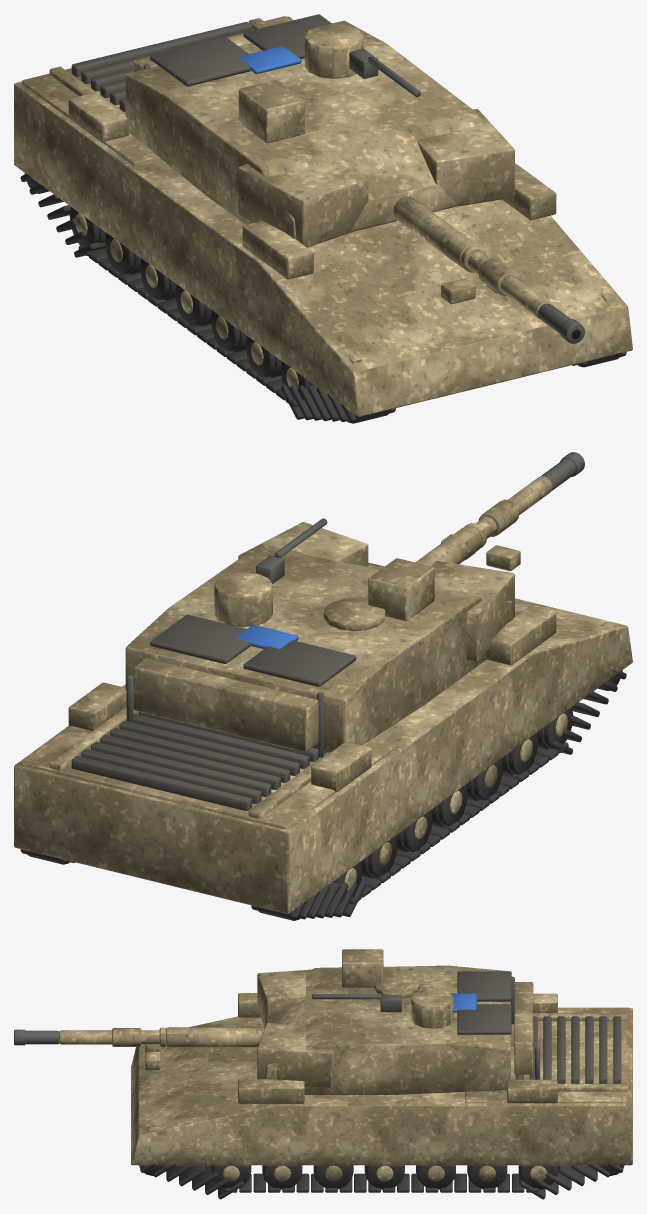
The model's file is mbt_e4_us_m1_abrams_LOD0.glb.
The picture shows the model from 3 angles, top to bottom: view 1: azimuth 30°, elevation 25°; view 2: azimuth 150°, elevation 25°; view 3: azimuth 270°, elevation 25°; orthographic projection. The views are drawn at different scales.
Parts seen in each view (by area): view 1: mbt_e4_us_m1_abrams_LOD0_body, mbt_e4_us_m1_abrams_LOD0_track, mbt_e4_us_m1_abrams_LOD0_deck, mbt_e4_us_m1_abrams_LOD0_gun, mbt_e4_us_m1_abrams_LOD0_team; view 2: mbt_e4_us_m1_abrams_LOD0_body, mbt_e4_us_m1_abrams_LOD0_deck, mbt_e4_us_m1_abrams_LOD0_track, mbt_e4_us_m1_abrams_LOD0_gun, mbt_e4_us_m1_abrams_LOD0_team; view 3: mbt_e4_us_m1_abrams_LOD0_body, mbt_e4_us_m1_abrams_LOD0_track, mbt_e4_us_m1_abrams_LOD0_deck, mbt_e4_us_m1_abrams_LOD0_gun, mbt_e4_us_m1_abrams_LOD0_team.
Boxes of the visible parts, x1,y1,x2,y2 form: mbt_e4_us_m1_abrams_LOD0_body: (14, 16, 632, 416); mbt_e4_us_m1_abrams_LOD0_track: (20, 173, 626, 423); mbt_e4_us_m1_abrams_LOD0_deck: (71, 14, 331, 111); mbt_e4_us_m1_abrams_LOD0_gun: (143, 48, 584, 343); mbt_e4_us_m1_abrams_LOD0_team: (238, 46, 301, 73); mbt_e4_us_m1_abrams_LOD0_body: (14, 476, 632, 914); mbt_e4_us_m1_abrams_LOD0_deck: (71, 614, 356, 810); mbt_e4_us_m1_abrams_LOD0_track: (20, 669, 626, 920); mbt_e4_us_m1_abrams_LOD0_gun: (126, 452, 584, 757); mbt_e4_us_m1_abrams_LOD0_team: (235, 625, 298, 648); mbt_e4_us_m1_abrams_LOD0_body: (59, 949, 632, 1181); mbt_e4_us_m1_abrams_LOD0_track: (139, 1160, 624, 1199); mbt_e4_us_m1_abrams_LOD0_deck: (457, 971, 621, 1083); mbt_e4_us_m1_abrams_LOD0_gun: (14, 976, 539, 1079); mbt_e4_us_m1_abrams_LOD0_team: (451, 993, 476, 1012).
Bounding box in the file's own units: 3.66 × 3.02 × 9.77.
6 materials, 1 textured.
